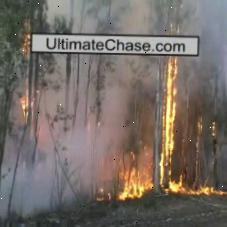fire: (156, 58, 181, 190), (111, 152, 144, 196), (181, 171, 224, 195)
smoke: (1, 89, 118, 202)
